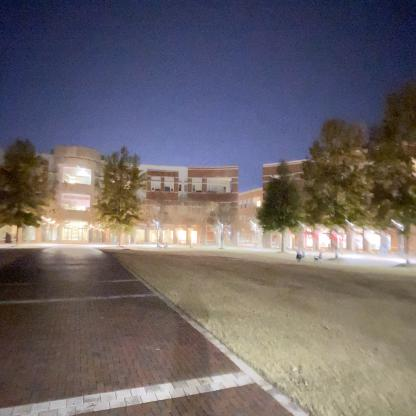eb2: (0, 134, 260, 253)
